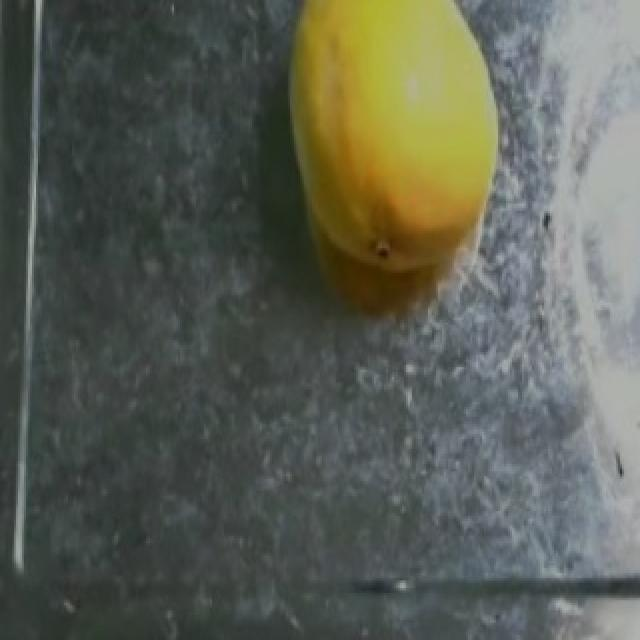fruit: (260, 0, 554, 303)
